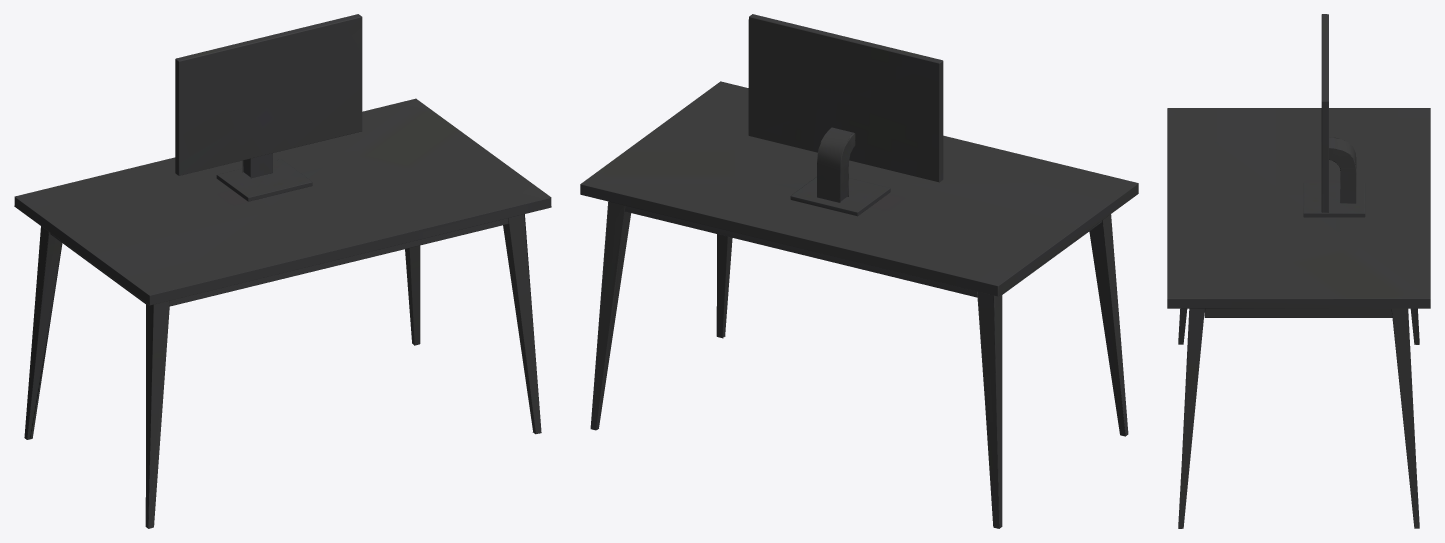
Rendered from office-desk.glb.
The picture shows the model from 3 angles, left to right: view 1: azimuth 30°, elevation 25°; view 2: azimuth 150°, elevation 25°; view 3: azimuth 270°, elevation 25°; orthographic projection. The views are drawn at different scales.
Size of the model in its own units: 0.9487 by 0.8765 by 0.5532.
1 material, 1 textured.
